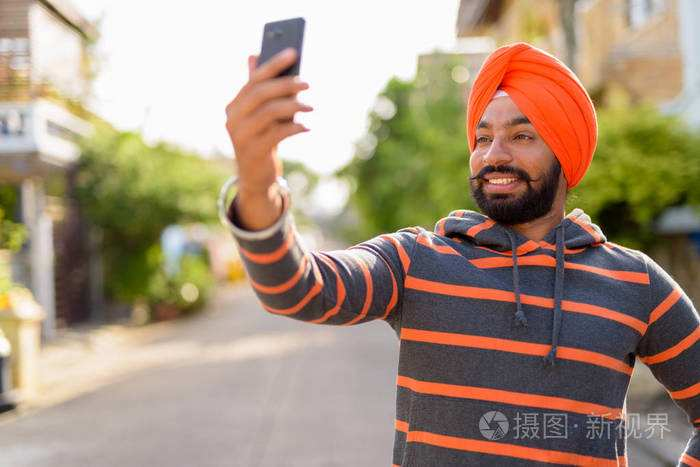taking photos: (225, 14, 316, 193)
